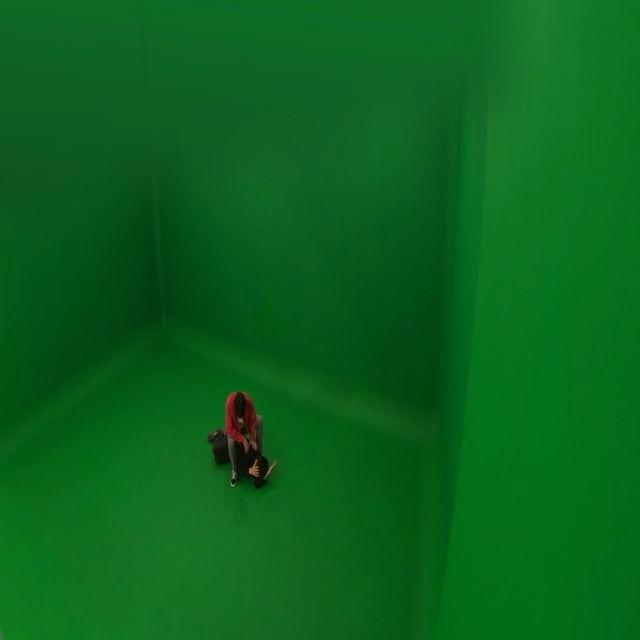fight: (208, 389, 273, 488)
